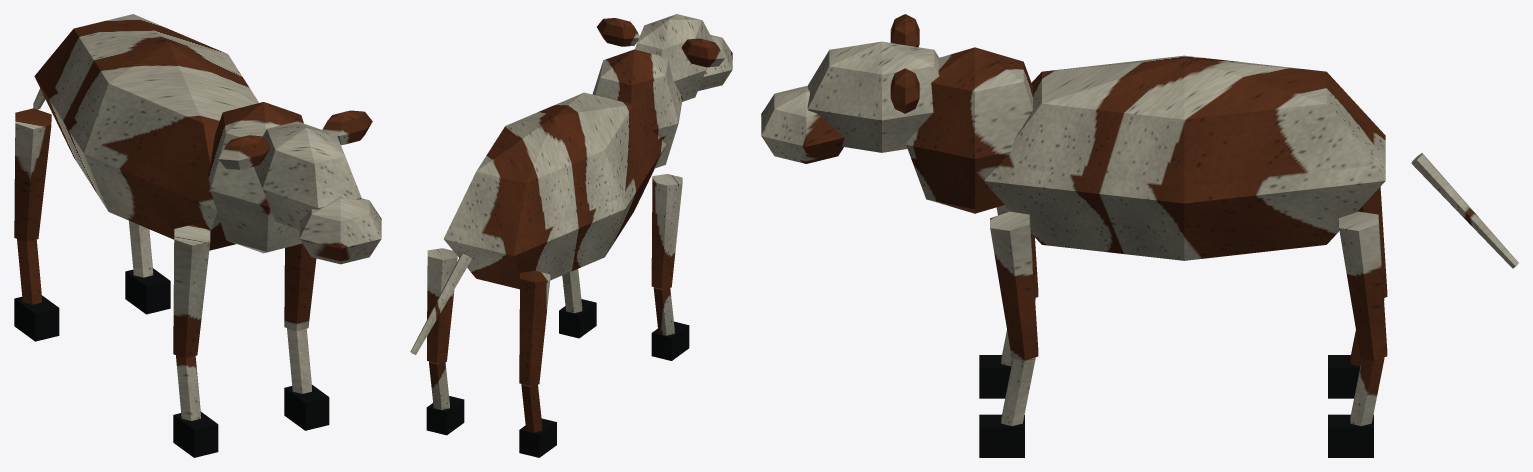
Rendered from PROP-349A323395D9_lod2.glb.
3 renders of one model, left to right at view 1: azimuth 30°, elevation 25°; view 2: azimuth 150°, elevation 25°; view 3: azimuth 270°, elevation 25°, orthographic. The views are drawn at different scales.
Parts seen in each view (by area): view 1: animal_torso.002, upper_leg.002, animal_head.002, animal_neck.002, hoof.002, lower_leg.002, muzzle.002, animal_ears.002; view 2: animal_torso.002, upper_leg.002, animal_neck.002, hoof.002, animal_head.002, lower_leg.002, animal_ears.002, tail.002, muzzle.002; view 3: animal_torso.002, animal_neck.002, upper_leg.002, animal_head.002, hoof.002, muzzle.002, lower_leg.002, animal_ears.002, tail.002.
Part boxes in pixels (left/top/right/bottom): animal_torso.002: left=34, top=14, right=258, bottom=250; upper_leg.002: left=14, top=108, right=316, bottom=358; animal_head.002: left=254, top=121, right=361, bottom=229; animal_neck.002: left=208, top=102, right=303, bottom=253; hoof.002: left=14, top=268, right=329, bottom=457; lower_leg.002: left=17, top=221, right=311, bottom=420; muzzle.002: left=299, top=198, right=381, bottom=264; animal_ears.002: left=218, top=110, right=372, bottom=169; animal_torso.002: left=443, top=92, right=666, bottom=289; upper_leg.002: left=427, top=174, right=682, bottom=385; animal_neck.002: left=592, top=49, right=682, bottom=168; hoof.002: left=426, top=299, right=689, bottom=457; animal_head.002: left=635, top=14, right=713, bottom=101; lower_leg.002: left=429, top=269, right=674, bottom=432; animal_ears.002: left=597, top=18, right=725, bottom=67; tail.002: left=410, top=253, right=471, bottom=354; muzzle.002: left=698, top=35, right=732, bottom=90; animal_torso.002: left=983, top=55, right=1385, bottom=260; animal_neck.002: left=906, top=47, right=1032, bottom=213; upper_leg.002: left=990, top=187, right=1387, bottom=360; animal_head.002: left=807, top=41, right=939, bottom=152; hoof.002: left=979, top=355, right=1373, bottom=457; muzzle.002: left=761, top=86, right=844, bottom=163; lower_leg.002: left=1001, top=298, right=1384, bottom=425; animal_ears.002: left=890, top=14, right=919, bottom=113; tail.002: left=1411, top=153, right=1518, bottom=268.
Size of the model in its own units: 0.7 by 1.37 by 2.47.
3 materials, 3 textured.
